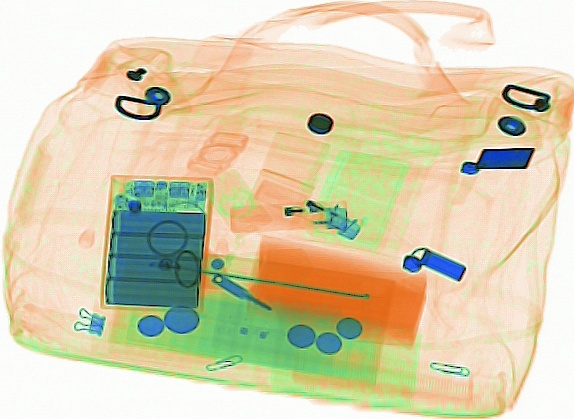lighter: (252, 177, 361, 240), (227, 196, 355, 236)
powerbank: (95, 170, 215, 312)
